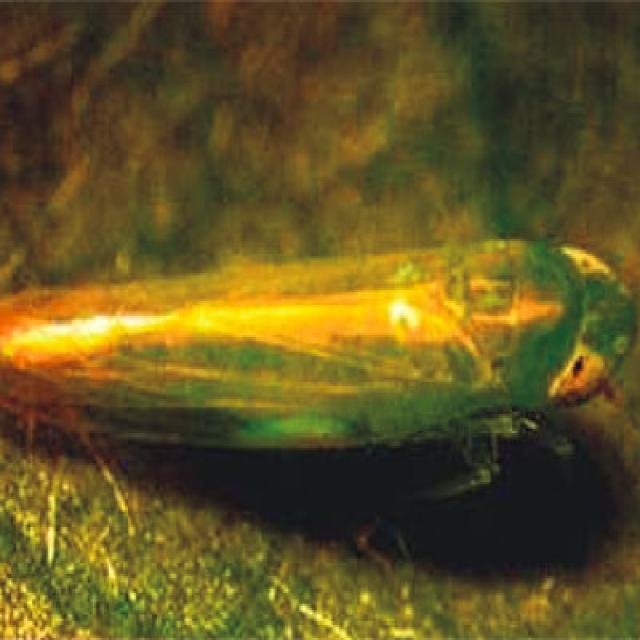Yechan: (0, 235, 636, 485)
